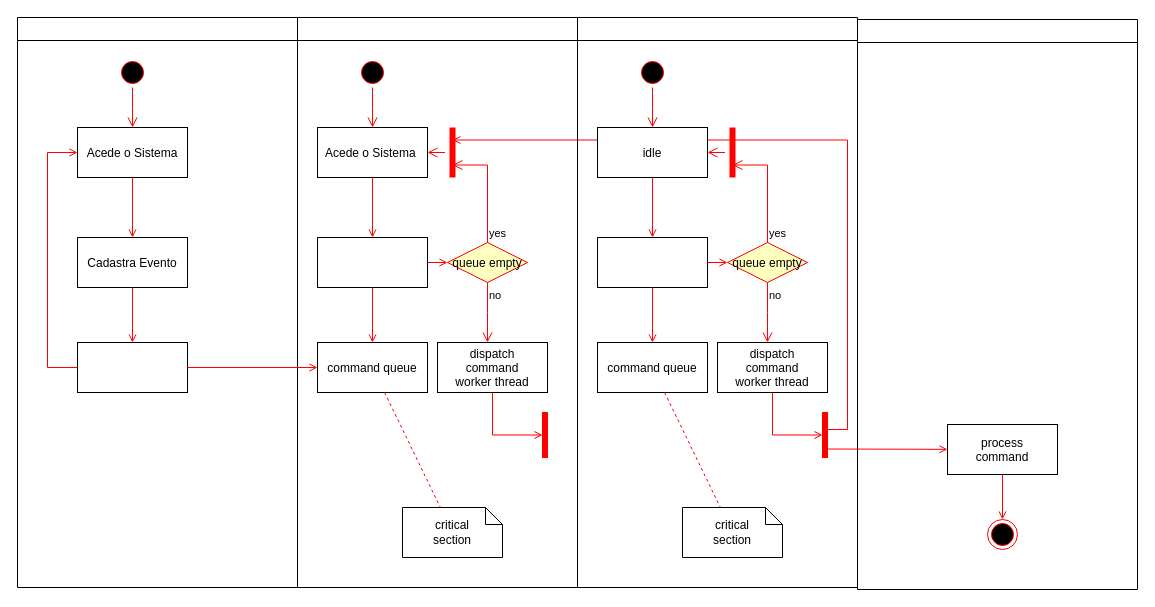
This 1155x607 diagram has some shape labels left out. Each missing label, with the box of its shape:
Cadastra-se para o Evento: (316, 236, 428, 288)
check for new commands: (596, 236, 708, 288)
Convidado: (296, 16, 578, 588)
Fim do Processo: (856, 18, 1138, 590)
Gestor: (16, 16, 298, 588)
post command: (76, 342, 188, 392)
Sistema: (576, 16, 858, 588)
